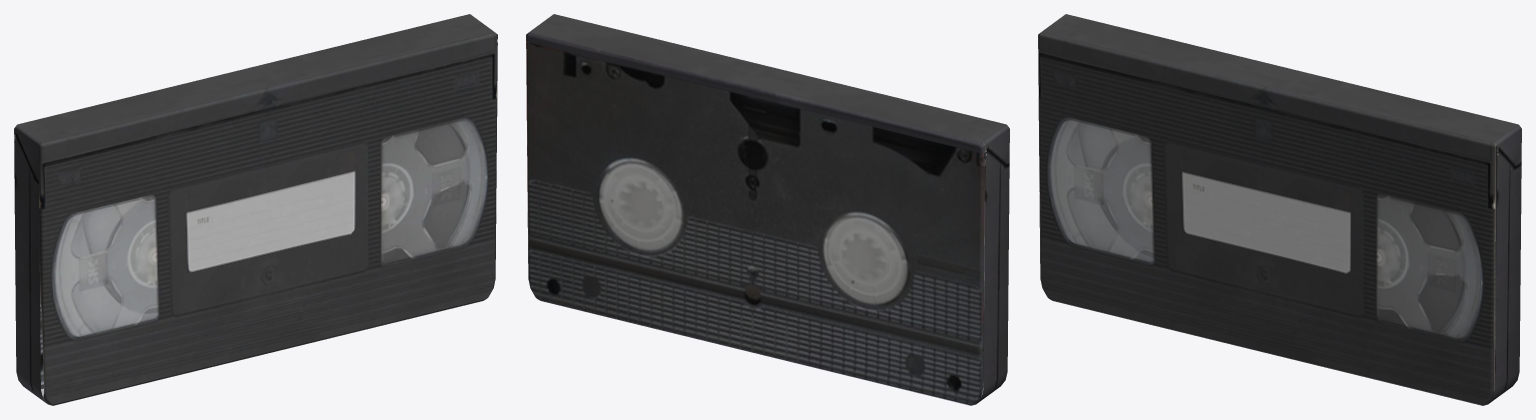
File: VHS Big.fbx
The picture shows the model from 3 angles, left to right: view 1: azimuth 30°, elevation 25°; view 2: azimuth 150°, elevation 25°; view 3: azimuth 330°, elevation 25°; orthographic projection.
Visible parts, largest first — view 1: VHS Big; view 2: VHS Big; view 3: VHS Big.
Boxes of the visible parts, left/top/right/bottom form: VHS Big: left=14, top=14, right=497, bottom=405; VHS Big: left=526, top=14, right=1009, bottom=405; VHS Big: left=1038, top=14, right=1521, bottom=405.
Bounding box in the file's own units: 412 × 228 × 44.28.
1 material, 1 textured.
